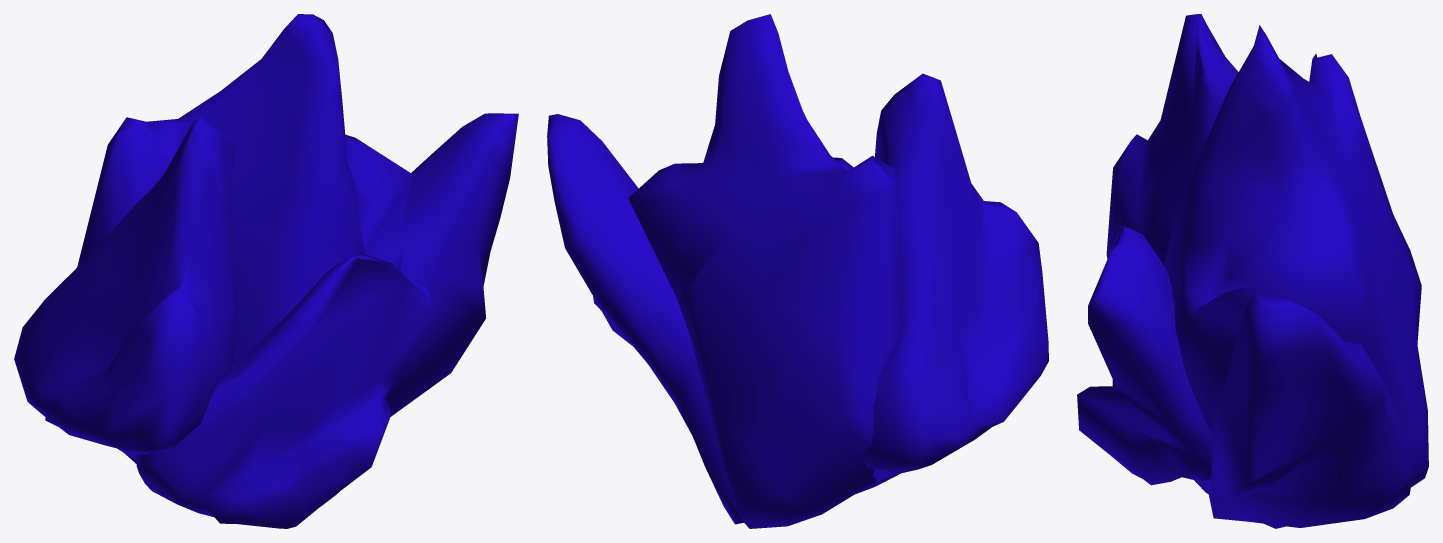
3 renders of one model, left to right at view 1: azimuth 30°, elevation 25°; view 2: azimuth 150°, elevation 25°; view 3: azimuth 270°, elevation 25°, orthographic. The views are drawn at different scales.
Parts seen in each view (by area): view 1: SM_RoughRock03_low.002; view 2: SM_RoughRock03_low.002; view 3: SM_RoughRock03_low.002.
Part boxes in pixels (x1,y1,x2,y2): SM_RoughRock03_low.002: [14, 14, 518, 528]; SM_RoughRock03_low.002: [547, 14, 1048, 528]; SM_RoughRock03_low.002: [1077, 14, 1428, 528].
Size of the model in its own units: 2.88 by 2.81 by 1.76.
